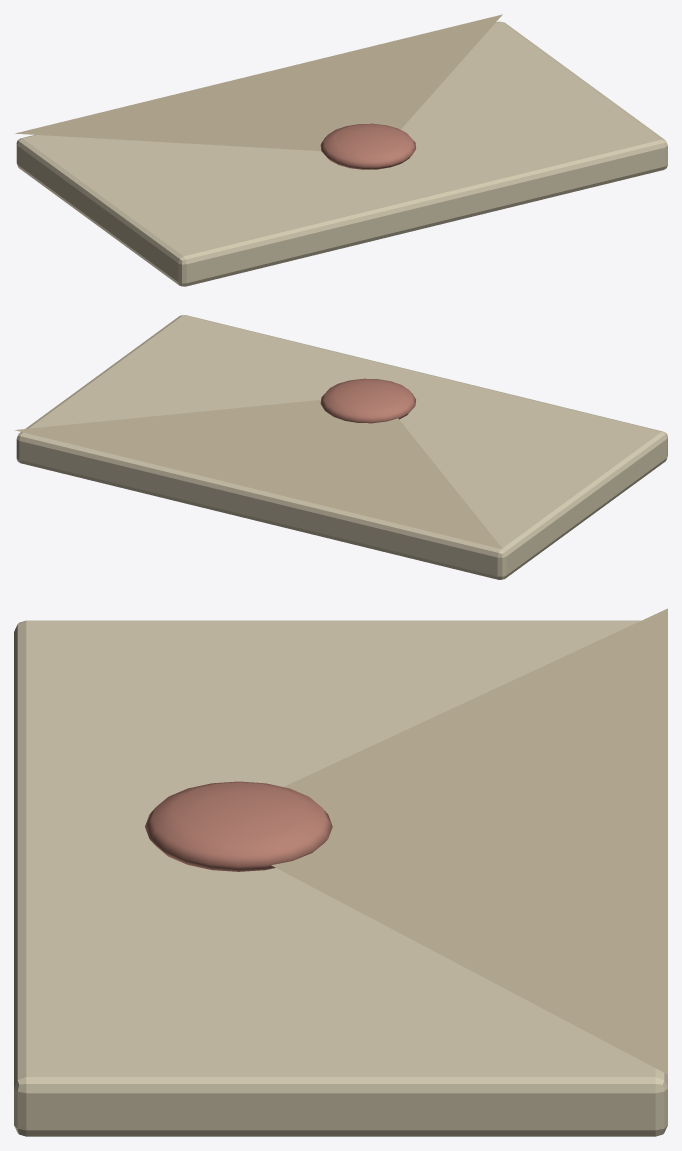
The model's file is folded-letter.glb.
The picture shows the model from 3 angles, top to bottom: view 1: azimuth 30°, elevation 25°; view 2: azimuth 150°, elevation 25°; view 3: azimuth 270°, elevation 25°; orthographic projection. The views are drawn at different scales.
Parts seen in each view (by area): view 1: folded-letter__Visual_matte, folded-letter__Visual_glaze; view 2: folded-letter__Visual_matte, folded-letter__Visual_glaze; view 3: folded-letter__Visual_matte, folded-letter__Visual_glaze.
Boxes of the visible parts, x1,y1,x2,y2 form: folded-letter__Visual_matte: (15,14,667,286); folded-letter__Visual_glaze: (320,123,416,169); folded-letter__Visual_matte: (14,315,667,579); folded-letter__Visual_glaze: (320,378,415,423); folded-letter__Visual_matte: (14,608,667,1136); folded-letter__Visual_glaze: (145,781,332,871).
Bounding box in the file's own units: 0.27 × 0.028 × 0.16.
